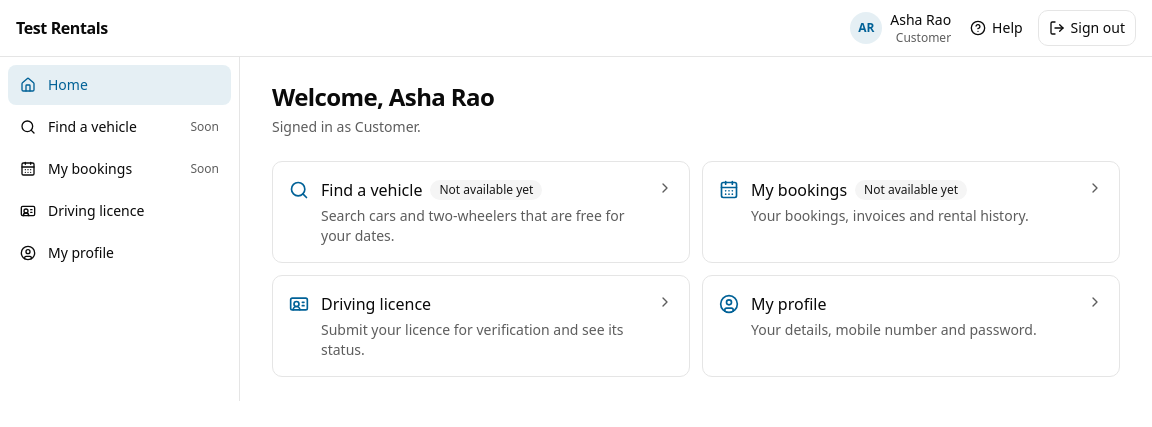
Test: session › sign-out ends the session and returns to sign in
Click the button "Sign out". click: [1087, 28]
box: [1038,10,1136,46]
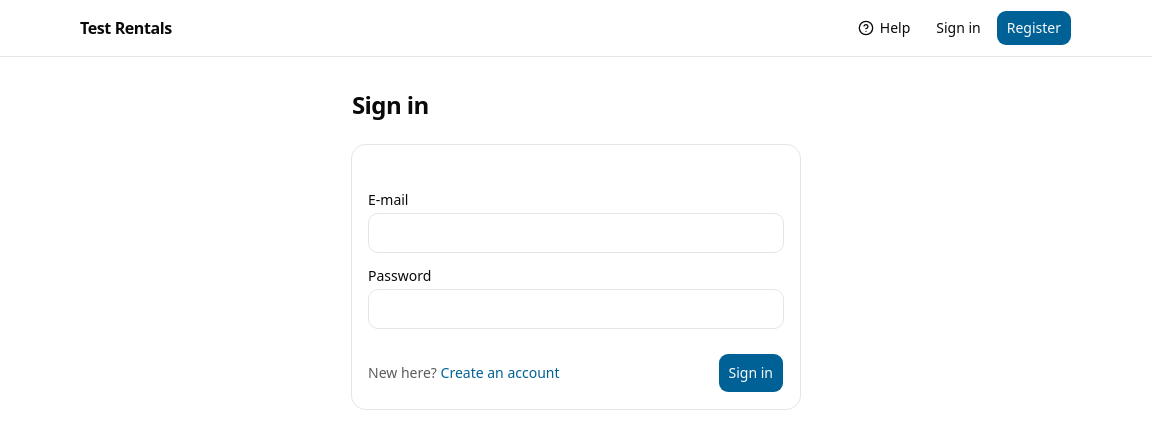
expect the heading "Sign in" is shown: met, box [352,89,429,121]
